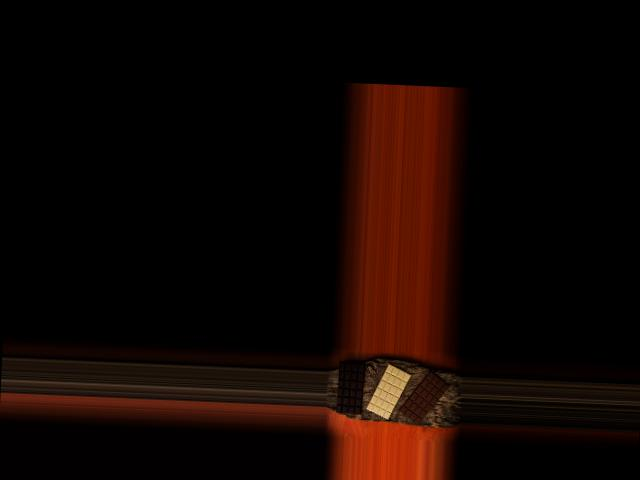chocolate: (335, 360, 364, 414)
